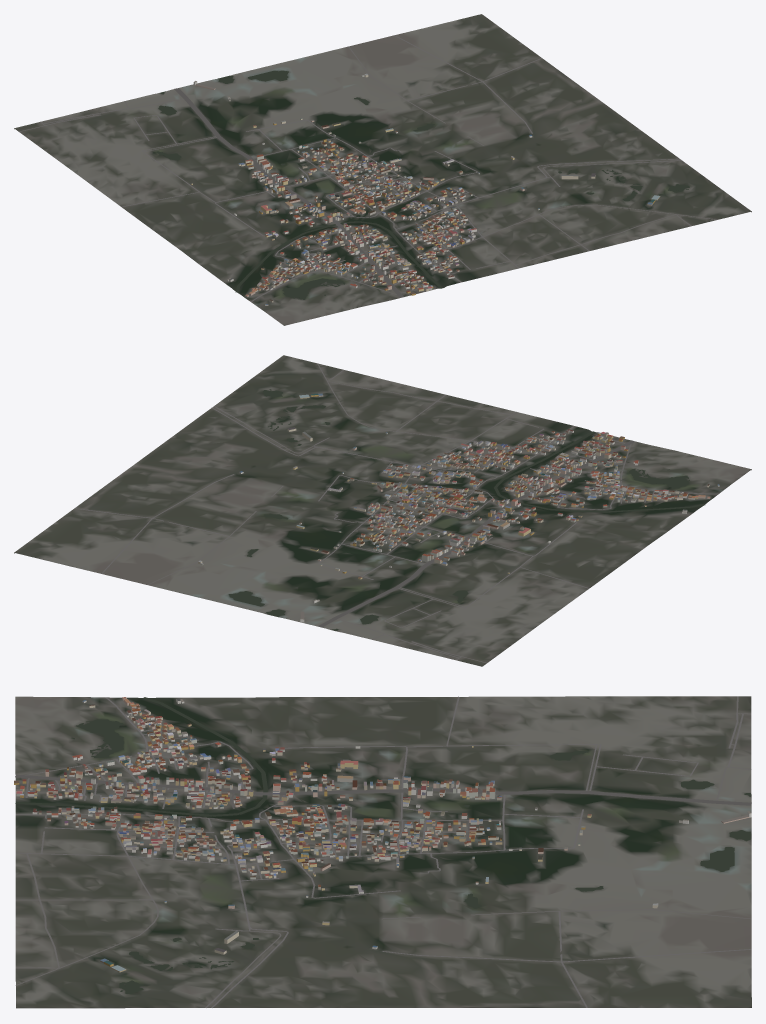
3 renders of one model, top to bottom at view 1: azimuth 30°, elevation 25°; view 2: azimuth 150°, elevation 25°; view 3: azimuth 270°, elevation 25°, orthographic. The views are drawn at different scales.
Parts seen in each view (by area): view 1: ground, buildings, roads, water; view 2: ground, buildings, roads, water; view 3: ground, buildings, roads, water.
Boxes of the visible parts, x1,y1,x2,y2 form: ground: (14,14,751,325); buildings: (191,73,660,305); roads: (19,35,717,302); water: (156,70,689,299); ground: (14,355,751,666); buildings: (198,393,719,622); roads: (74,363,718,663); water: (228,389,704,630); ground: (15,696,751,1008); buildings: (14,697,751,972); roads: (15,696,751,1007); water: (15,697,750,993).
Size of the model in its own units: 1408 by 21.58 by 1406.
